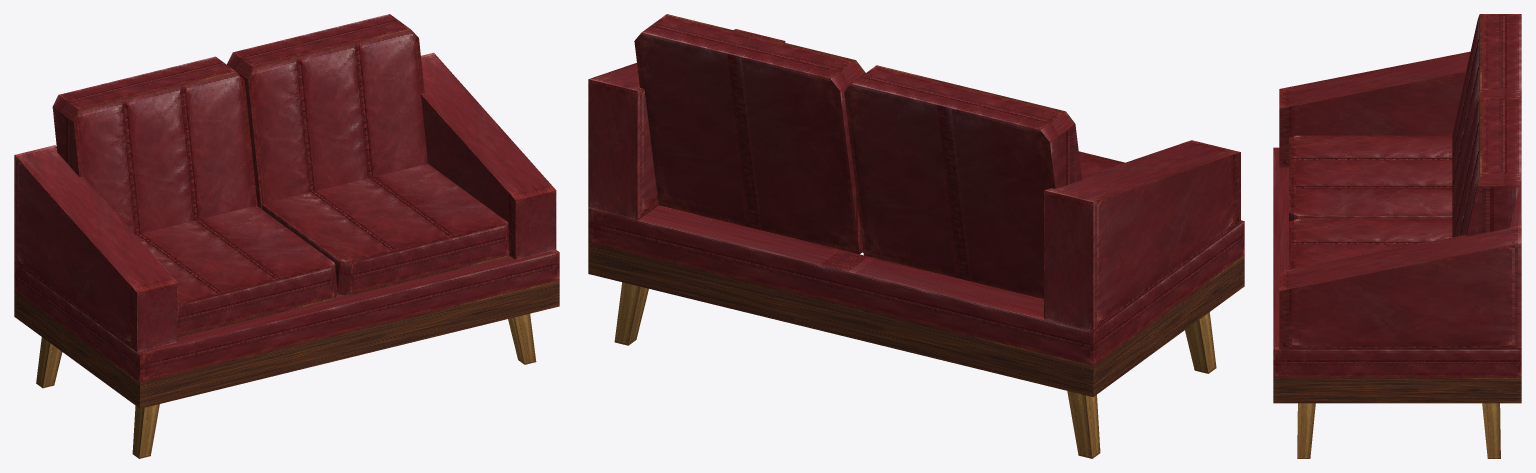
File: casino-two-seat-couch.glb
3 renders of one model, left to right at view 1: azimuth 30°, elevation 25°; view 2: azimuth 150°, elevation 25°; view 3: azimuth 270°, elevation 25°, orthographic. The views are drawn at different scales.
Visible parts, largest first — view 1: casino-two-seat-couch; view 2: casino-two-seat-couch; view 3: casino-two-seat-couch.
Part boxes in pixels (x1,y1,x2,y2): casino-two-seat-couch: [14, 14, 559, 458]; casino-two-seat-couch: [588, 14, 1244, 458]; casino-two-seat-couch: [1273, 14, 1521, 458].
Size of the model in its own units: 1.6 by 0.995 by 0.83.
Materials: 1 (1 with a texture image).
